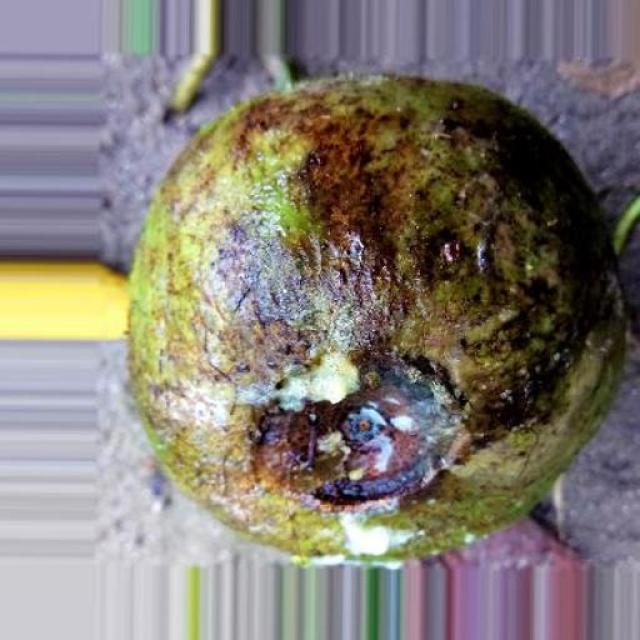Phytopthora: (130, 78, 625, 559)
